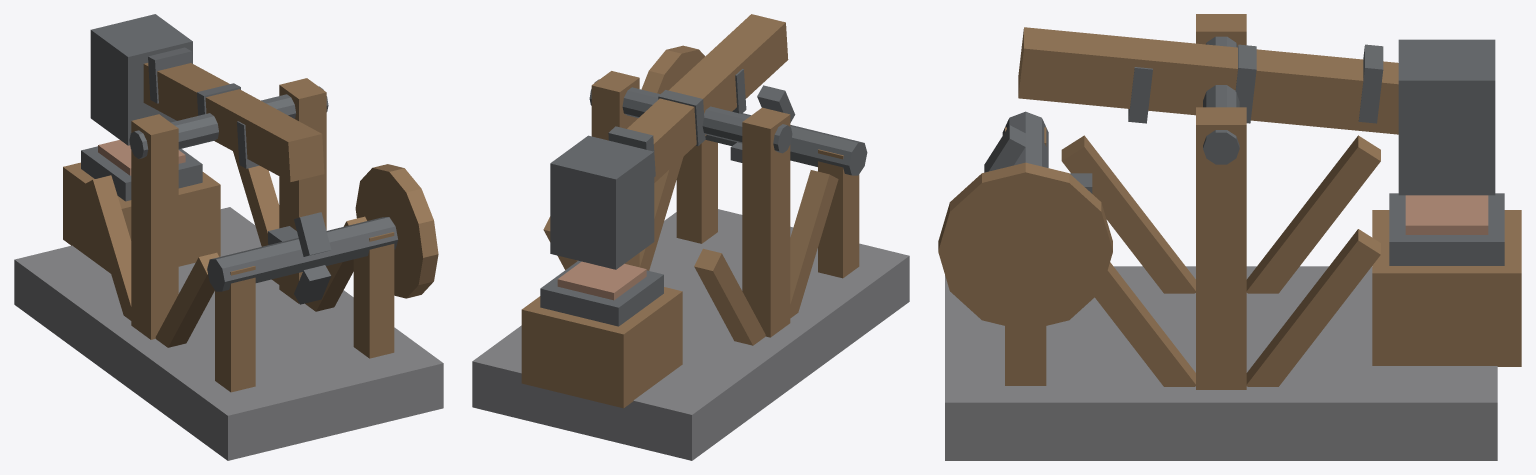
Rendered from trip_hammer.glb.
3 renders of one model, left to right at view 1: azimuth 30°, elevation 25°; view 2: azimuth 150°, elevation 25°; view 3: azimuth 270°, elevation 25°, orthographic. The views are drawn at different scales.
Parts seen in each view (by area): view 1: Cube, Cube.001, Cube.007, Cube.011, Cube.012, Cylinder.002, Cylinder.001, Cube.016, Cube.015, Cube.004, Cube.003, Cube.002 (+10 smaller); view 2: Cube, Cube.012, Cube.011, Cube.001, Cube.007, Cube.015, Cube.016, Cube.002, Cube.013, Cube.003, Cylinder.001, Cylinder (+7 smaller); view 3: Cube, Cube.007, Cylinder.002, Cube.012, Cube.011, Cube.004, Cube.003, Cube.006, Cube.002, Cube.013, Cube.005, Cube.014 (+8 smaller).
Boxes of the visible parts, x1,y1,x2,y2 form: Cube: [14, 207, 443, 460]; Cube.001: [131, 114, 178, 339]; Cube.007: [143, 63, 324, 182]; Cube.011: [90, 14, 192, 145]; Cube.012: [63, 162, 220, 273]; Cylinder.002: [355, 164, 438, 298]; Cylinder.001: [207, 217, 398, 291]; Cube.016: [353, 232, 394, 358]; Cube.015: [215, 266, 255, 392]; Cube.004: [279, 78, 326, 303]; Cube.003: [84, 175, 131, 320]; Cube.002: [155, 252, 218, 347]; Cube: [472, 209, 909, 460]; Cube.012: [521, 287, 682, 408]; Cube.011: [550, 135, 654, 269]; Cube.001: [742, 107, 790, 337]; Cube.007: [627, 14, 788, 182]; Cube.015: [818, 149, 859, 278]; Cube.016: [676, 140, 717, 243]; Cube.002: [790, 170, 838, 318]; Cube.013: [540, 260, 663, 326]; Cube.003: [694, 248, 765, 345]; Cylinder.001: [705, 113, 867, 175]; Cylinder: [589, 79, 792, 153]; Cube: [945, 266, 1497, 460]; Cube.007: [1018, 27, 1398, 134]; Cylinder.002: [938, 162, 1112, 330]; Cube.012: [1372, 210, 1521, 366]; Cube.011: [1398, 39, 1495, 195]; Cube.004: [1196, 107, 1246, 389]; Cube.003: [1246, 135, 1380, 293]; Cube.006: [1246, 229, 1380, 386]; Cube.002: [1061, 135, 1195, 293]; Cube.013: [1389, 193, 1504, 265]; Cube.005: [1095, 262, 1195, 386]; Cube.014: [1405, 195, 1488, 234].
Size of the model in its own units: 1.4 by 1.7 by 2.54.
